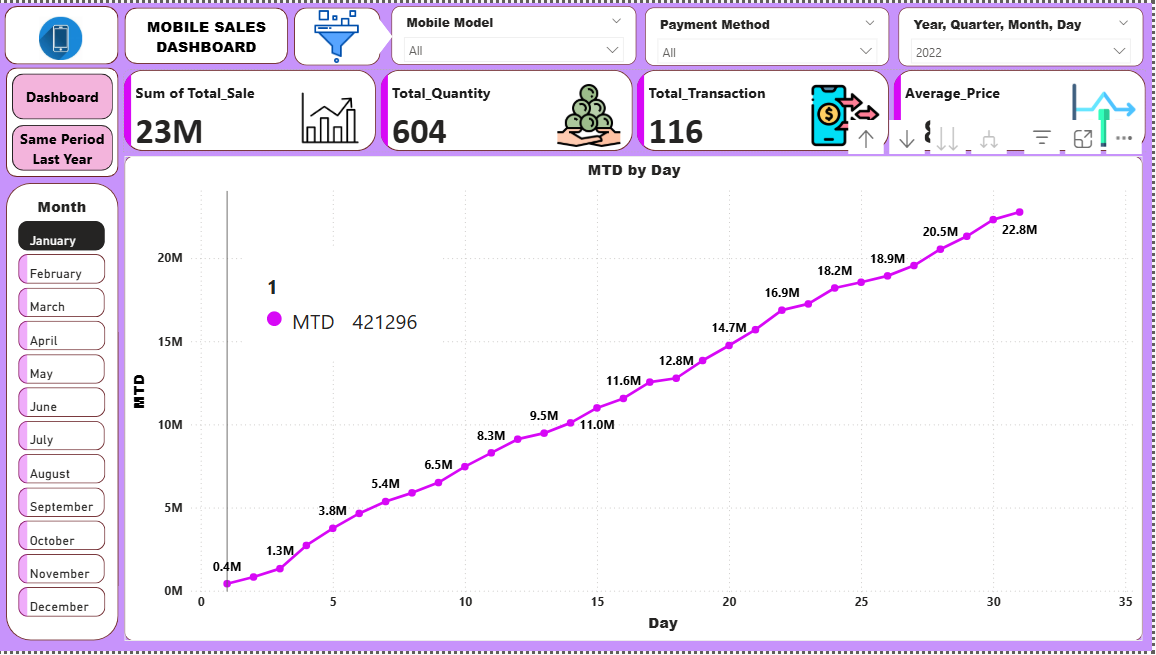

The dashboard page shown, as its layout file describes it:
{"tool":"powerbi","page":{"name":"MTD Report","canvas":[1280,720],"ordinal":1},"visuals":[{"type":"shape","box":[5,3.3,126.7,65],"z":0},{"type":"image","box":[16.7,10,101.7,58.3],"z":1000},{"type":"shape","box":[6.7,200,125,508.3],"z":2000,"group":"g1"},{"type":"shape","box":[6.7,71.7,125,121.7],"z":2000},{"type":"cardVisual","fields":{"Data":["Sum(Raw_Data.Total_Sale)","Raw_Data.Total_Quantity","Raw_Data.Total_Transaction","Raw_Data.Average_Price"]},"box":[130.9,67.9,1149.6,102.7],"z":3000},{"type":"slicer","fields":{"Values":["Raw_Data.Mobile Model"]},"box":[435,3.3,271.7,65],"z":4000},{"type":"advancedSlicerVisual","fields":{"Values":["custom_calendar.Date.Variation.Date Hierarchy.Month"]},"box":[14.9,215.3,107.7,477.1],"z":4000,"group":"g1"},{"type":"slicer","fields":{"Values":["Raw_Data.Payment Method"]},"box":[717.3,5,271.7,64.6],"z":5000},{"type":"slicer","fields":{"Values":["custom_calendar.Date.Variation.Date Hierarchy.Year","custom_calendar.Date.Variation.Date Hierarchy.Quarter","custom_calendar.Date.Variation.Date Hierarchy.Month","custom_calendar.Date.Variation.Date Hierarchy.Day"]},"box":[998.1,5,271.7,65],"z":6000},{"type":"shape","box":[326.3,5,96.1,64.6],"z":7000},{"type":"image","box":[331.3,1.7,84.5,71.2],"z":8000},{"type":"shape","box":[404.2,16.6,31.5,41.4],"z":9000},{"type":"shape","box":[139.1,5,182.2,62.9],"z":10000},{"type":"textbox","box":[154.1,9.9,152.4,56.3],"z":11000},{"type":"lineChart","fields":{"Y":["Raw_Data.MTD"],"Category":["custom_calendar.Date.Variation.Date Hierarchy.Year","custom_calendar.Date.Variation.Date Hierarchy.Quarter","custom_calendar.Date.Variation.Date Hierarchy.Month","custom_calendar.Date.Variation.Date Hierarchy.Day"]},"box":[139.1,170.6,1131.4,538.4],"z":12000},{"type":"group","id":"g1","title":"Group 1","box":[6.7,200,125,508.3],"z":13000},{"type":"pageNavigator","box":[13.3,77.9,112.6,109.3],"z":14000}]}

Visuals, with their boxes on the page's 1280x720 design canvas (x1, y1, x2, y2). These are canvas units, not pixel positions in the 1156x655 screenshot, which may show the page scaled, cropped or inside an application window:
shape: (5,3,132,68)
image: (17,10,118,68)
shape: (7,200,132,708)
shape: (7,72,132,193)
cardVisual - Sum(Raw_Data.Total_Sale) x Raw_Data.Total_Quantity: (131,68,1280,171)
slicer - Raw_Data.Mobile Model: (435,3,707,68)
advancedSlicerVisual - custom_calendar.Date.Variation.Date Hierarchy.Month: (15,215,123,692)
slicer - Raw_Data.Payment Method: (717,5,989,70)
slicer - custom_calendar.Date.Variation.Date Hierarchy.Year x custom_calendar.Date.Variation.Date Hierarchy.Quarter: (998,5,1270,70)
shape: (326,5,422,70)
image: (331,2,416,73)
shape: (404,17,436,58)
shape: (139,5,321,68)
textbox: (154,10,306,66)
lineChart - Raw_Data.MTD x custom_calendar.Date.Variation.Date Hierarchy.Year: (139,171,1270,709)
"Group 1" group: (7,200,132,708)
pageNavigator: (13,78,126,187)
